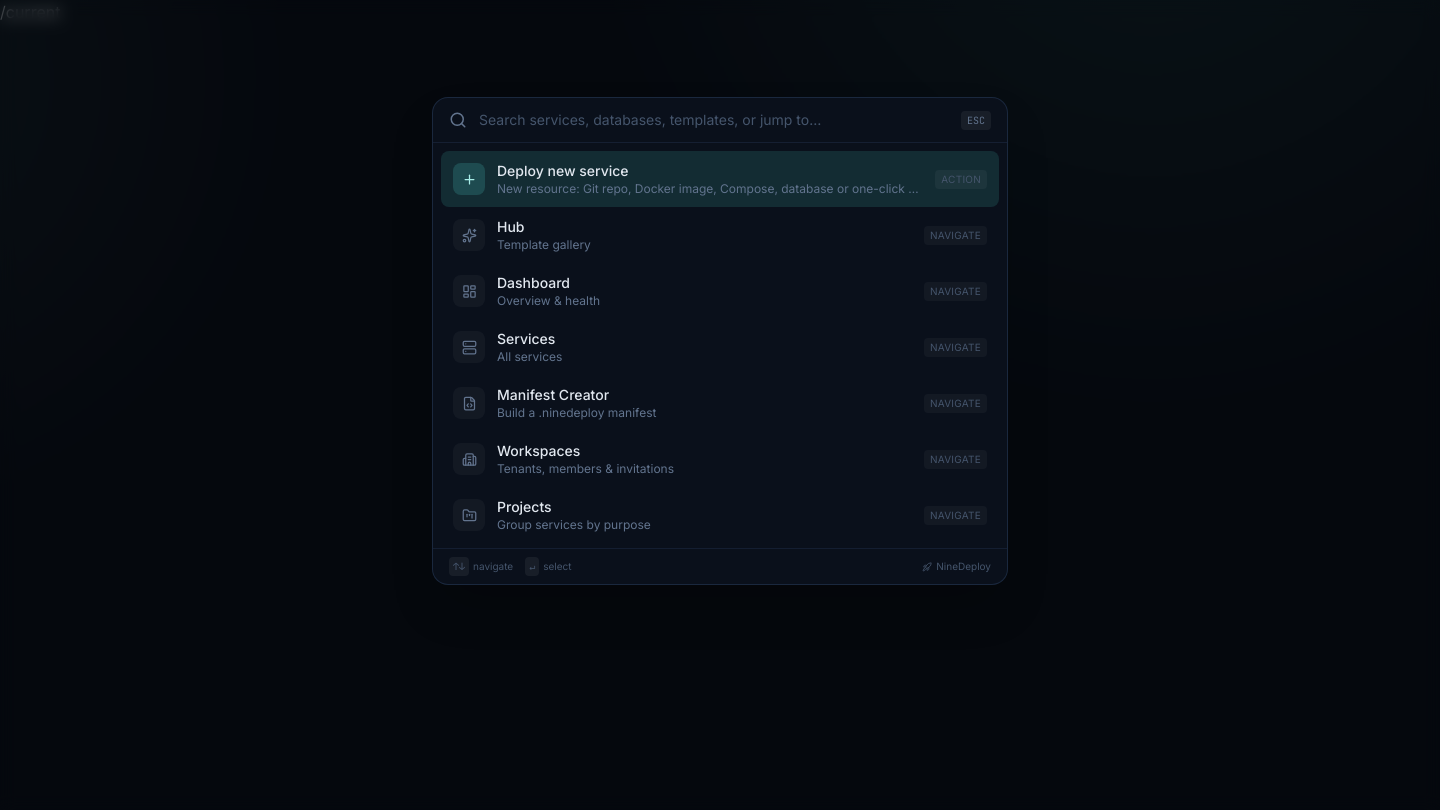
Test: CommandPalette › r564: an empty search collapses the combobox
Type "zzz-nothing" into the dropdown.
click(714, 120); type("zzz-nothing")  # box [479,110,949,130]
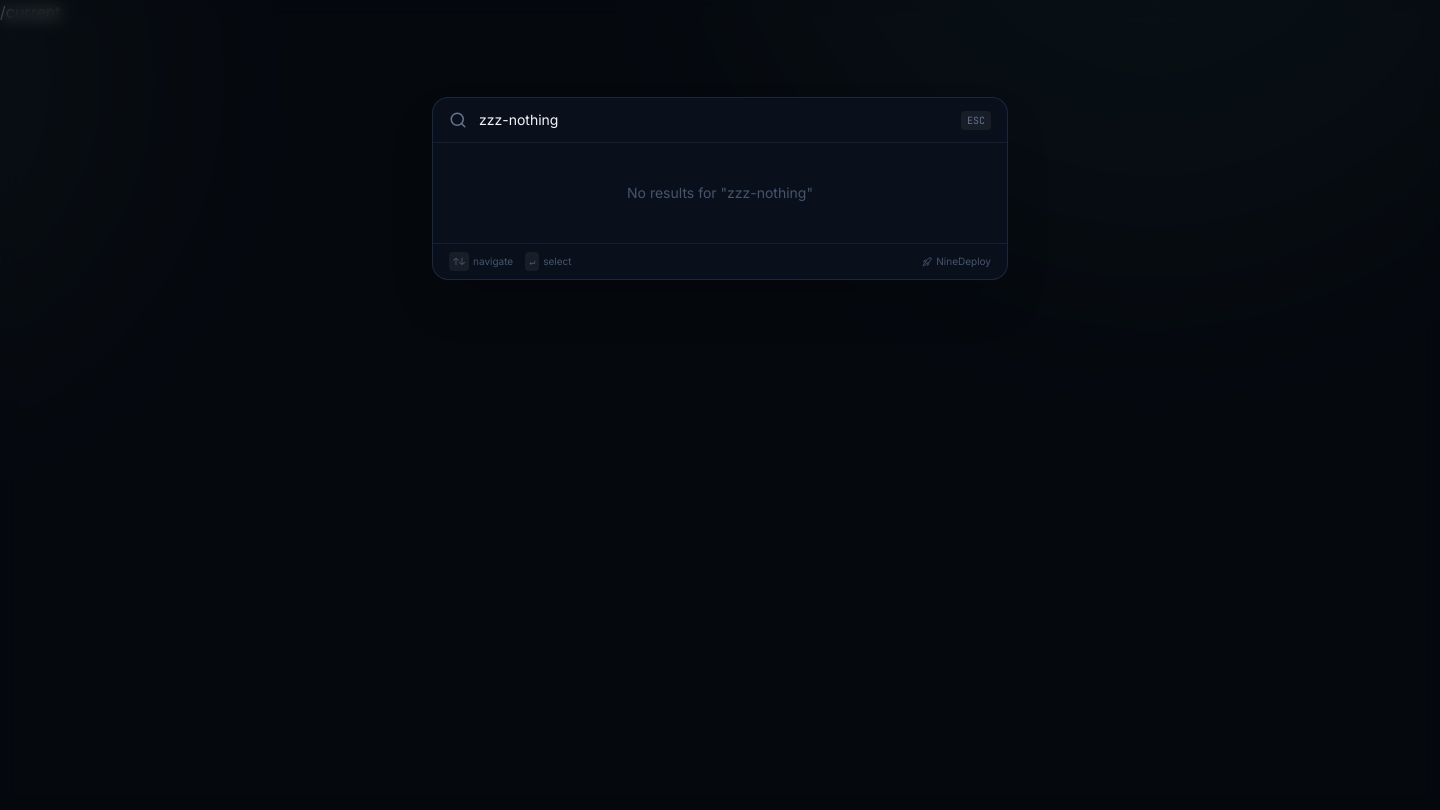
Expected: the dropdown is collapsed, [479,110,949,130]
